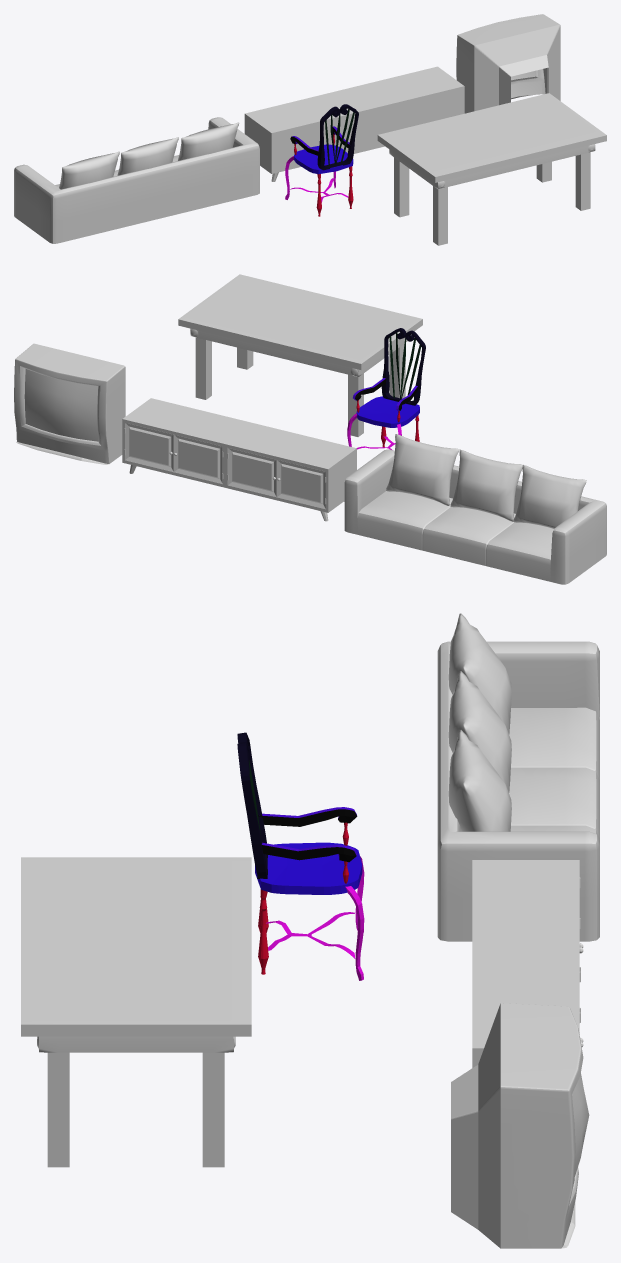
File: LivingRoom_Models.fbx
3 renders of one model, top to bottom at view 1: azimuth 30°, elevation 25°; view 2: azimuth 150°, elevation 25°; view 3: azimuth 270°, elevation 25°, orthographic. The views are drawn at different scales.
Visible parts, largest first — view 1: polySurfaceShape142, pasted__pCube1, pCube25, pCube24, KitchenProps18; view 2: polySurfaceShape142, pasted__pCube1, pCube25, pCube24, KitchenProps18; view 3: pasted__pCube1, polySurfaceShape142, pCube24, pCube25, KitchenProps18.
Part boxes in pixels (bbox=[...]): polySurfaceShape142: bbox=[14, 117, 259, 243]; pasted__pCube1: bbox=[377, 93, 606, 245]; pCube25: bbox=[244, 66, 464, 181]; pCube24: bbox=[456, 14, 560, 113]; KitchenProps18: bbox=[285, 104, 358, 216]; polySurfaceShape142: bbox=[344, 434, 606, 584]; pasted__pCube1: bbox=[178, 274, 422, 436]; pCube25: bbox=[122, 398, 356, 521]; pCube24: bbox=[14, 343, 125, 464]; KitchenProps18: bbox=[347, 328, 425, 449]; pasted__pCube1: bbox=[21, 857, 251, 1167]; polySurfaceShape142: bbox=[437, 613, 599, 941]; pCube24: bbox=[451, 1003, 589, 1248]; pCube25: bbox=[472, 860, 583, 1067]; KitchenProps18: bbox=[237, 732, 364, 980].
Bounding box in the file's own units: 7.45 × 1.6 × 3.57.
